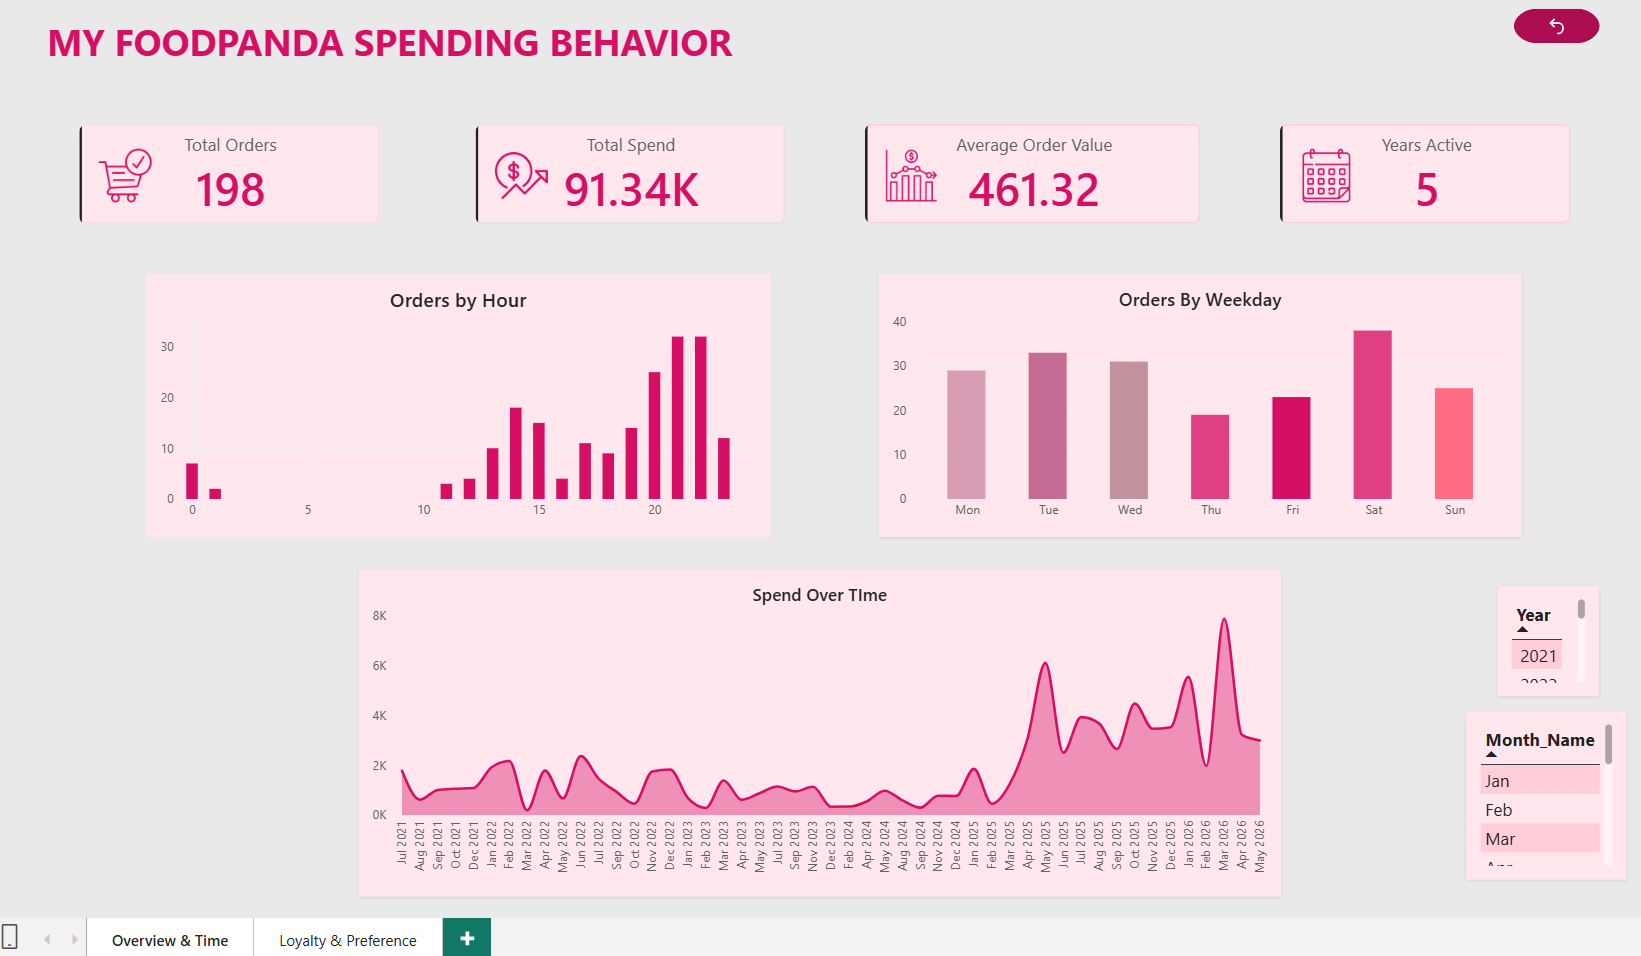

The dashboard page shown, as its layout file describes it:
{"tool":"powerbi","page":{"name":"Overview & Time","canvas":[1920,1080],"ordinal":0},"visuals":[{"type":"textbox","box":[27.5,30,862.5,65],"z":0},{"type":"cardVisual","fields":{"Data":["'Measures'.Total Orders"]},"box":[98,156,350,116],"z":1000},{"type":"cardVisual","fields":{"Data":["'Measures'.Total Spend"]},"box":[558,156,360,116],"z":2000},{"type":"cardVisual","fields":{"Data":["'Measures'.Average Order Value"]},"box":[1012,156,390,116],"z":3000},{"type":"cardVisual","fields":{"Data":["'Measures'.Years Active"]},"box":[1494,156,338,116],"z":4000},{"type":"lineChart","title":"Spend Over TIme","fields":{"Category":["DateTable.MonthYear"],"Y":["'Measures'.Total Spend"]},"box":[422.5,675,1072.5,380],"z":5000},{"type":"clusteredColumnChart","title":"Orders By Weekday","fields":{"Category":["DateTable.Weekday"],"Y":["'Measures'.Total Orders"]},"box":[1028,330,748,306],"z":6000},{"type":"clusteredColumnChart","title":"Orders by Hour","fields":{"Category":["foodpanda_orders.Hour"],"Y":["'Measures'.Total Orders"]},"box":[176,330,726,306],"z":7000},{"type":"tableEx","fields":{"Values":["DateTable.Date.Variation.Date Hierarchy.Year"]},"box":[1747.5,693.2,118,128],"z":8000},{"type":"tableEx","fields":{"Values":["DateTable.Month_Name"]},"box":[1711.5,839.2,186,196],"z":9000},{"type":"actionButton","box":[1766,22,100,40],"z":10001},{"type":"image","box":[98,184,108,62],"z":10002},{"type":"image","box":[558,184,108,62],"z":10003},{"type":"image","box":[1012,184,108,62],"z":10004},{"type":"image","box":[1494,184,108,62],"z":10005}]}

Visuals, with their boxes on the page's 1920x1080 design canvas (x1, y1, x2, y2). These are canvas units, not pixel positions in the 1641x956 screenshot, which may show the page scaled, cropped or inside an application window:
textbox: (left=28, top=30, right=890, bottom=95)
cardVisual - 'Measures'.Total Orders: (left=98, top=156, right=448, bottom=272)
cardVisual - 'Measures'.Total Spend: (left=558, top=156, right=918, bottom=272)
cardVisual - 'Measures'.Average Order Value: (left=1012, top=156, right=1402, bottom=272)
cardVisual - 'Measures'.Years Active: (left=1494, top=156, right=1832, bottom=272)
"Spend Over TIme" lineChart: (left=422, top=675, right=1495, bottom=1055)
"Orders By Weekday" clusteredColumnChart: (left=1028, top=330, right=1776, bottom=636)
"Orders by Hour" clusteredColumnChart: (left=176, top=330, right=902, bottom=636)
tableEx - DateTable.Date.Variation.Date Hierarchy.Year: (left=1748, top=693, right=1866, bottom=821)
tableEx - DateTable.Month_Name: (left=1712, top=839, right=1898, bottom=1035)
actionButton: (left=1766, top=22, right=1866, bottom=62)
image: (left=98, top=184, right=206, bottom=246)
image: (left=558, top=184, right=666, bottom=246)
image: (left=1012, top=184, right=1120, bottom=246)
image: (left=1494, top=184, right=1602, bottom=246)
